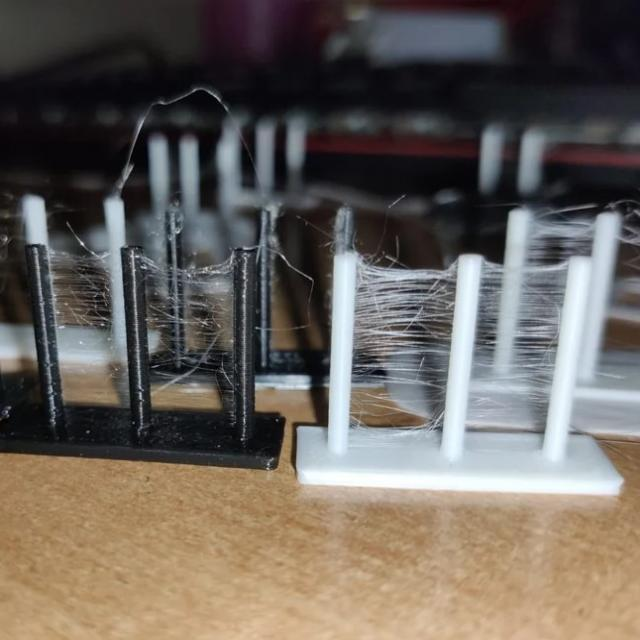stringing: (138, 253, 244, 394), (51, 251, 126, 375), (388, 274, 454, 342), (351, 342, 443, 385), (510, 270, 564, 328), (504, 335, 560, 383), (351, 274, 389, 342), (476, 272, 511, 334)
